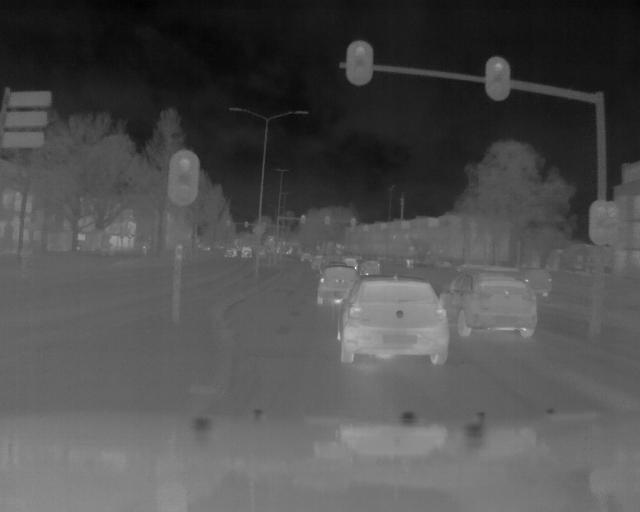car: (339, 278, 448, 366), (457, 273, 538, 344), (314, 268, 351, 303)
